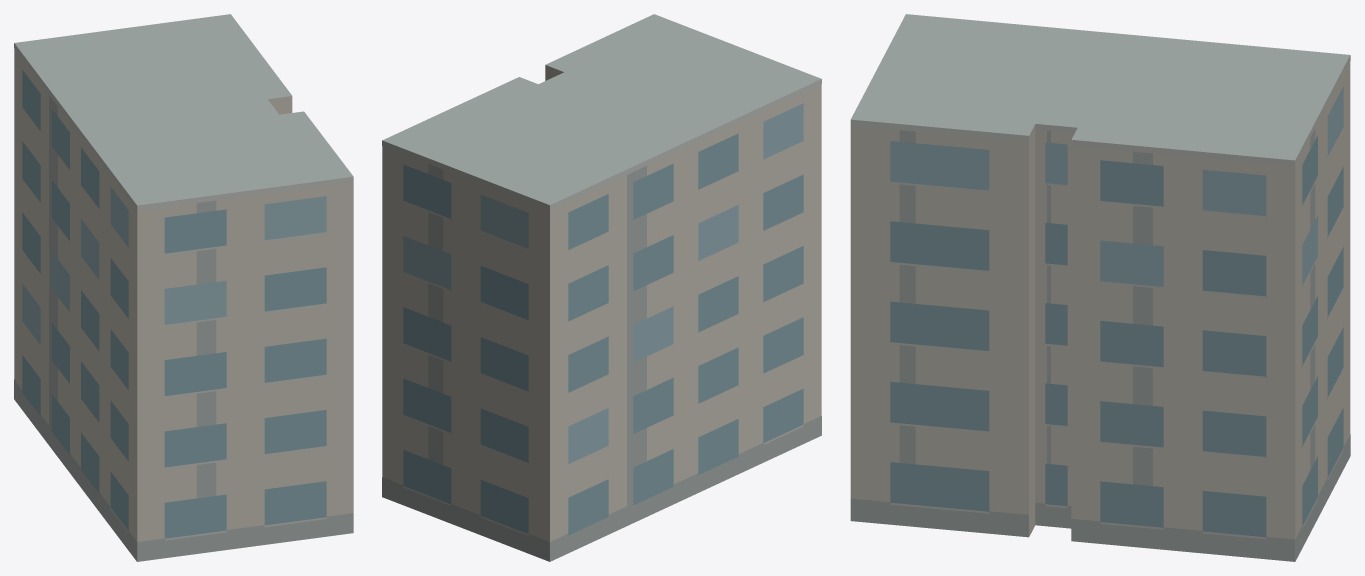
The model's file is survey-upis-32809980.glb.
The picture shows the model from 3 angles, left to right: view 1: azimuth 30°, elevation 25°; view 2: azimuth 150°, elevation 25°; view 3: azimuth 270°, elevation 25°; orthographic projection. The views are drawn at different scales.
Parts seen in each view (by area): view 1: survey-upis-32809980.tmp; view 2: survey-upis-32809980.tmp; view 3: survey-upis-32809980.tmp.
Part boxes in pixels (x1,y1,x2,y2): survey-upis-32809980.tmp: (14, 14, 353, 561); survey-upis-32809980.tmp: (382, 14, 821, 561); survey-upis-32809980.tmp: (850, 14, 1350, 561).
Size of the model in its own units: 12.45 by 15.9 by 17.95.
